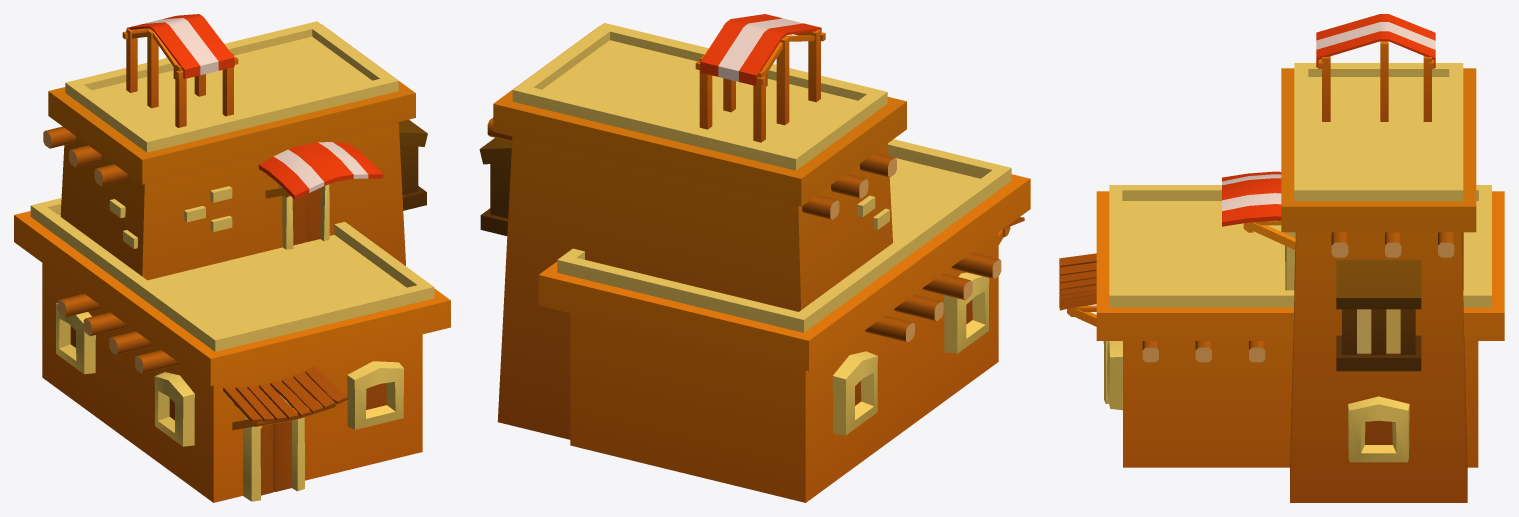
Rendered from Building_Desert_House_A_02.fbx.
The picture shows the model from 3 angles, left to right: view 1: azimuth 30°, elevation 25°; view 2: azimuth 150°, elevation 25°; view 3: azimuth 270°, elevation 25°; orthographic projection. The views are drawn at different scales.
Parts seen in each view (by area): view 1: Building_Desert_House_A_02; view 2: Building_Desert_House_A_02; view 3: Building_Desert_House_A_02.
Part boxes in pixels (bbox=[...]): Building_Desert_House_A_02: bbox=[14, 14, 450, 502]; Building_Desert_House_A_02: bbox=[479, 14, 1030, 502]; Building_Desert_House_A_02: bbox=[1059, 14, 1504, 502].
Size of the model in its own units: 398 by 395 by 418.
